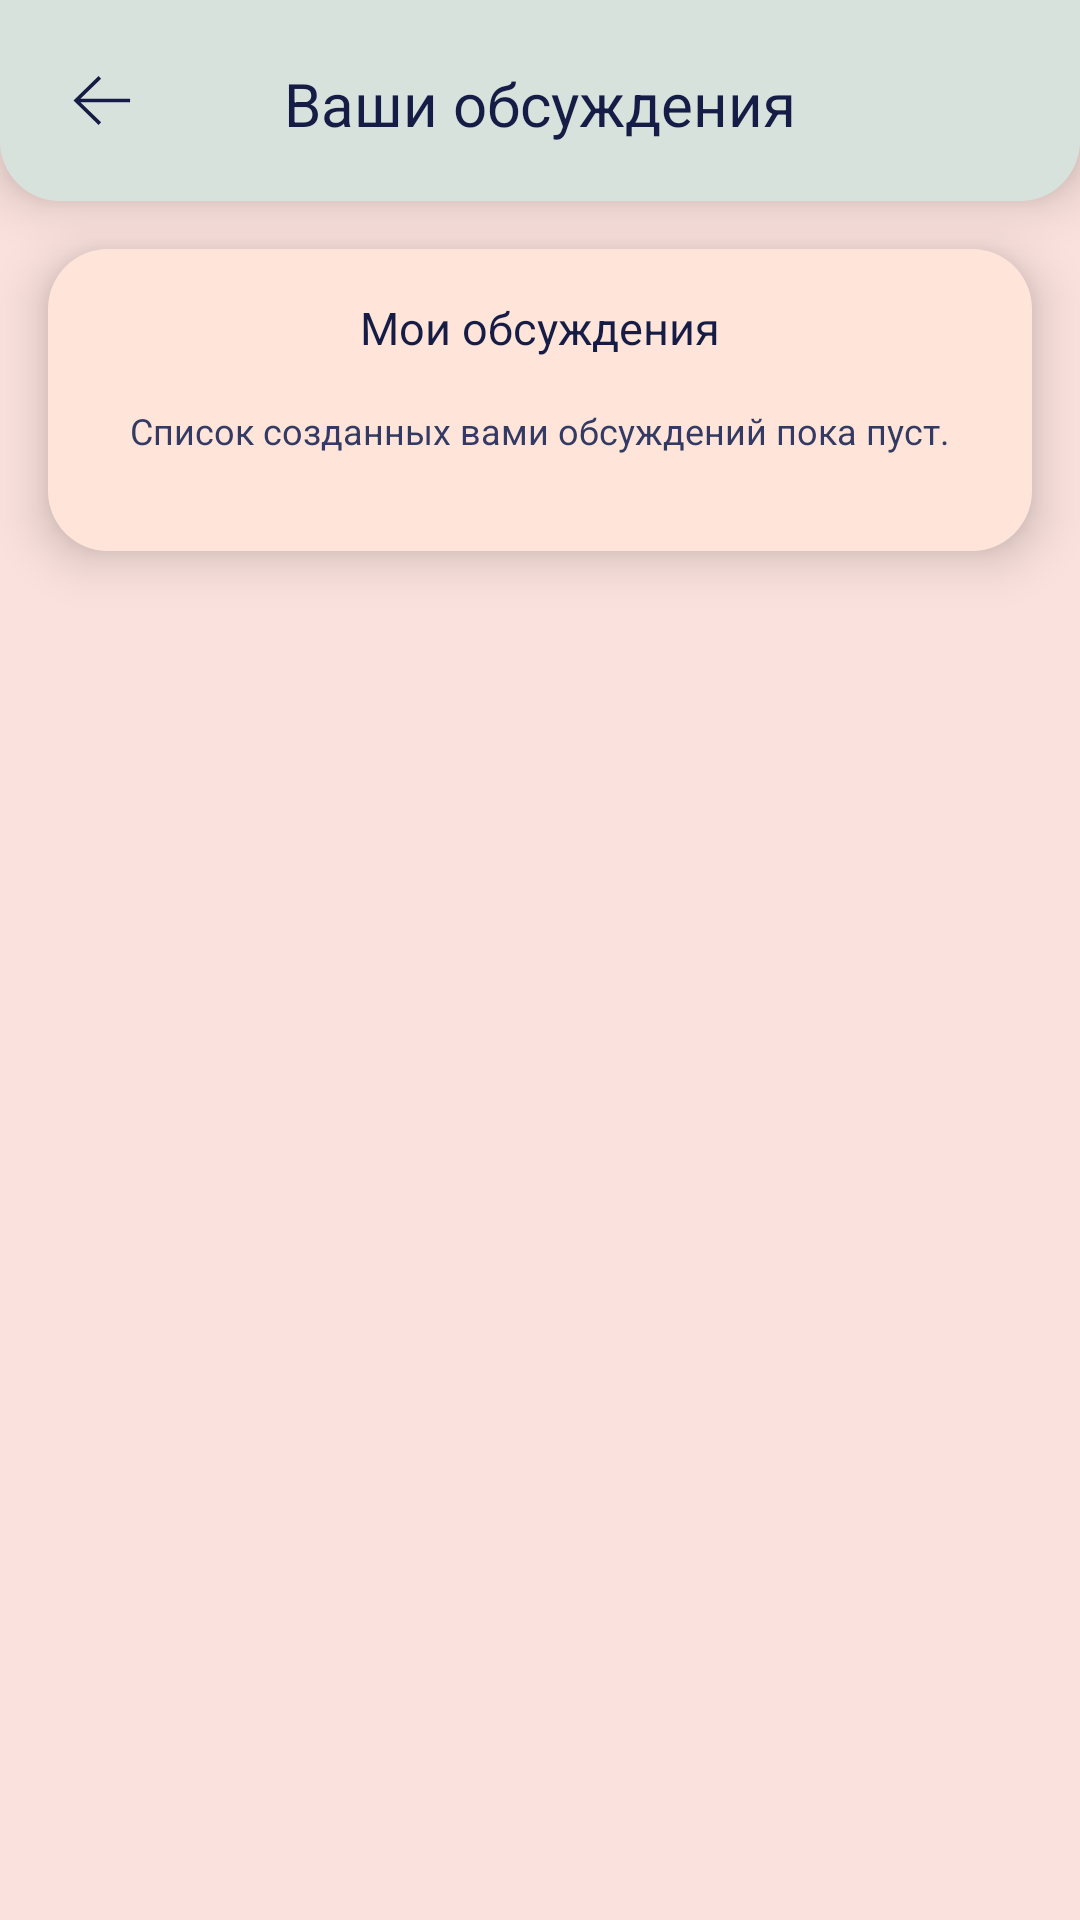

Screen size 1080*1920. Icon name, then its box in pixels as (x1, y1, x2, y2):
arrow: (73, 76, 130, 125)
